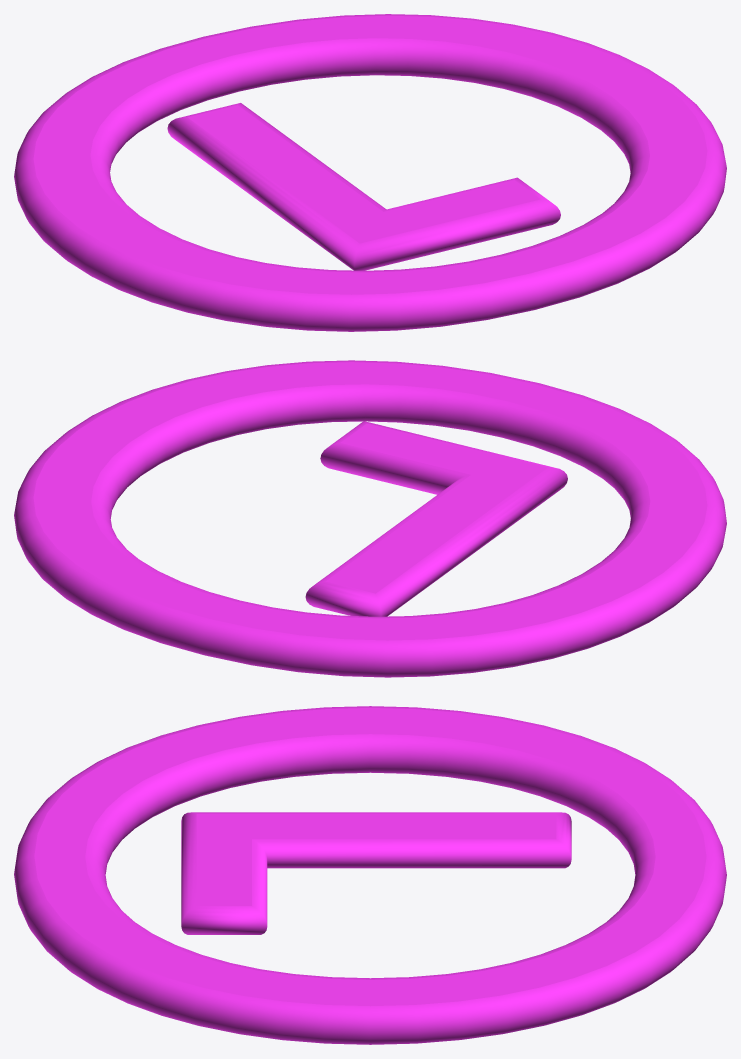
Rendered from purple.dae.
The picture shows the model from 3 angles, top to bottom: view 1: azimuth 30°, elevation 25°; view 2: azimuth 150°, elevation 25°; view 3: azimuth 270°, elevation 25°; orthographic projection. The views are drawn at different scales.
Visible parts, largest first — view 1: Text.001; view 2: Text.001; view 3: Text.001.
Part boxes in pixels (box(x1,y1,x2,y2)): Text.001: box(14, 14, 726, 331); Text.001: box(14, 360, 726, 677); Text.001: box(14, 706, 726, 1044).
Bounding box in the file's own units: 1.6 × 1.53 × 0.0875.
